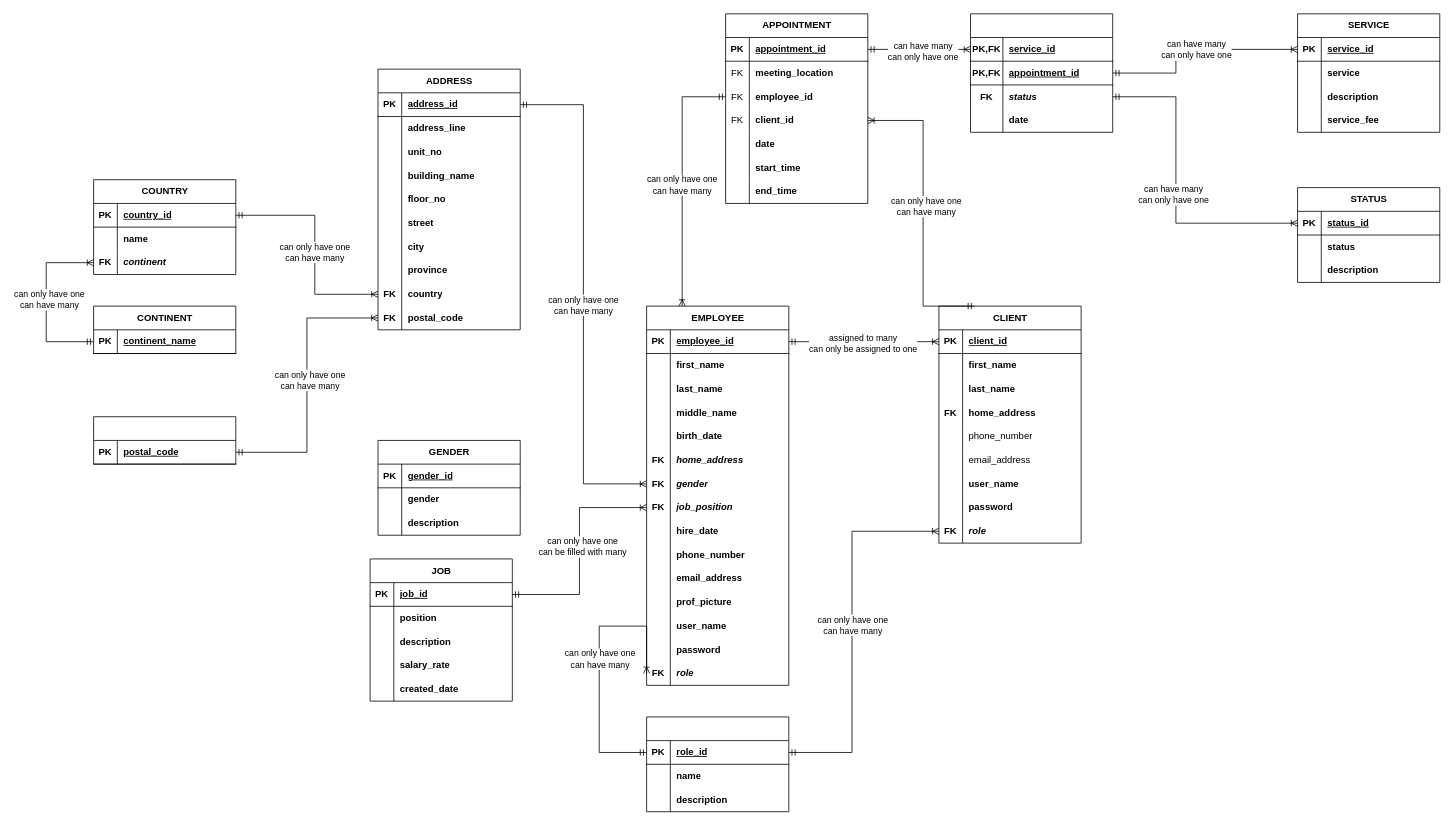
Some shapes in this 1454 by 826 pixel diagram are drawn without their labels. Each missing label, with the box of its shape:
POST_CODE: (93, 416, 236, 464)
SERVICE_APPOINTMENT: (970, 13, 1113, 132)
USER_ROLE: (646, 716, 789, 812)
